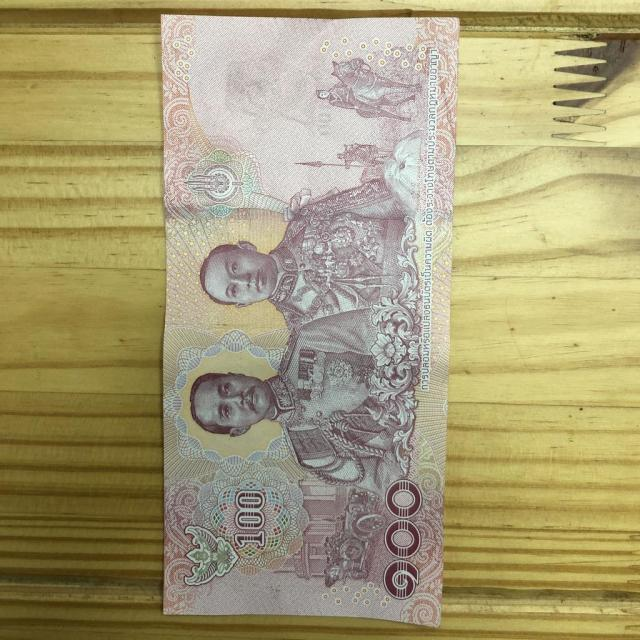THAI100: (162, 14, 459, 626)
